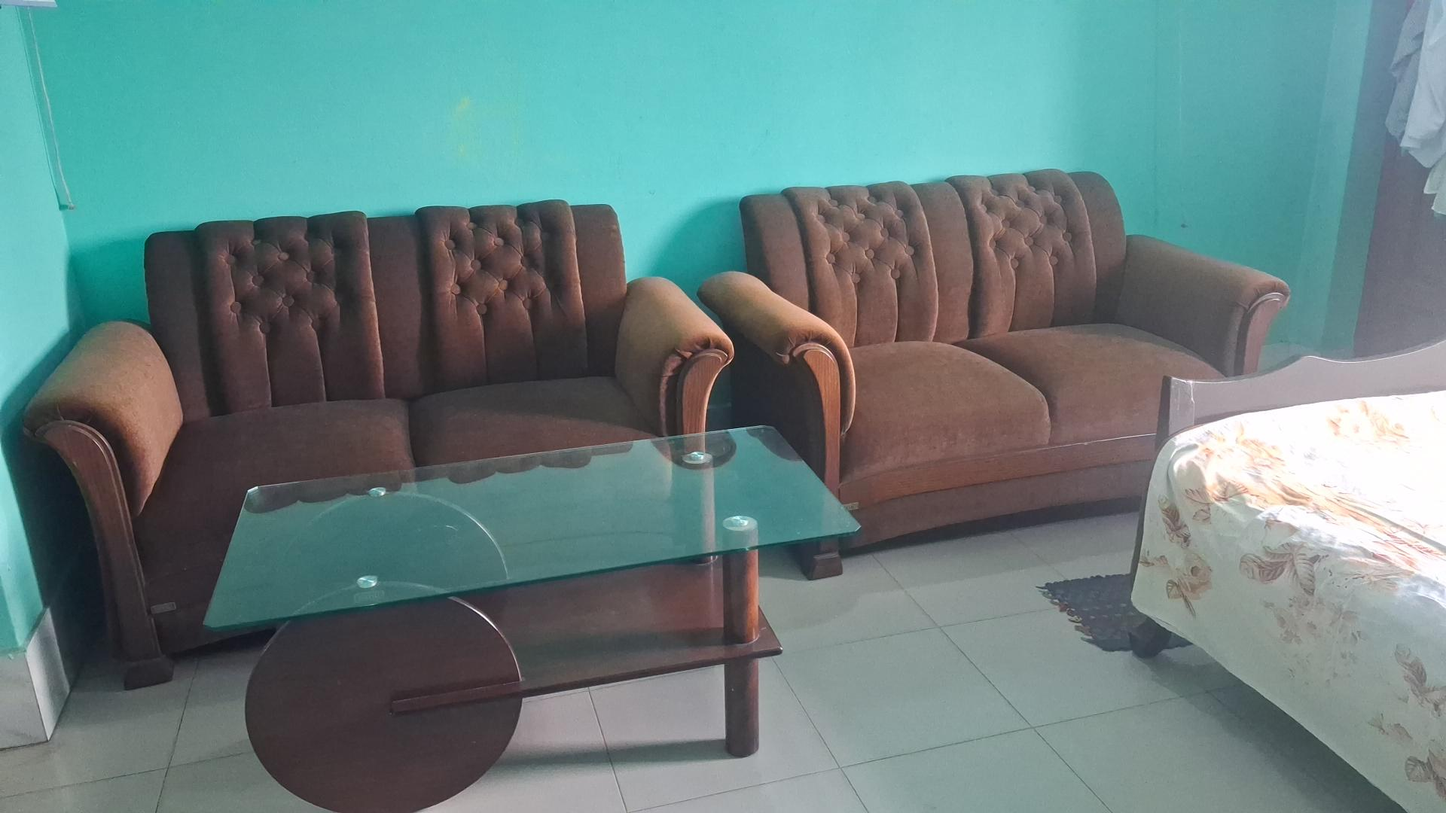Table: (202, 418, 861, 813)
